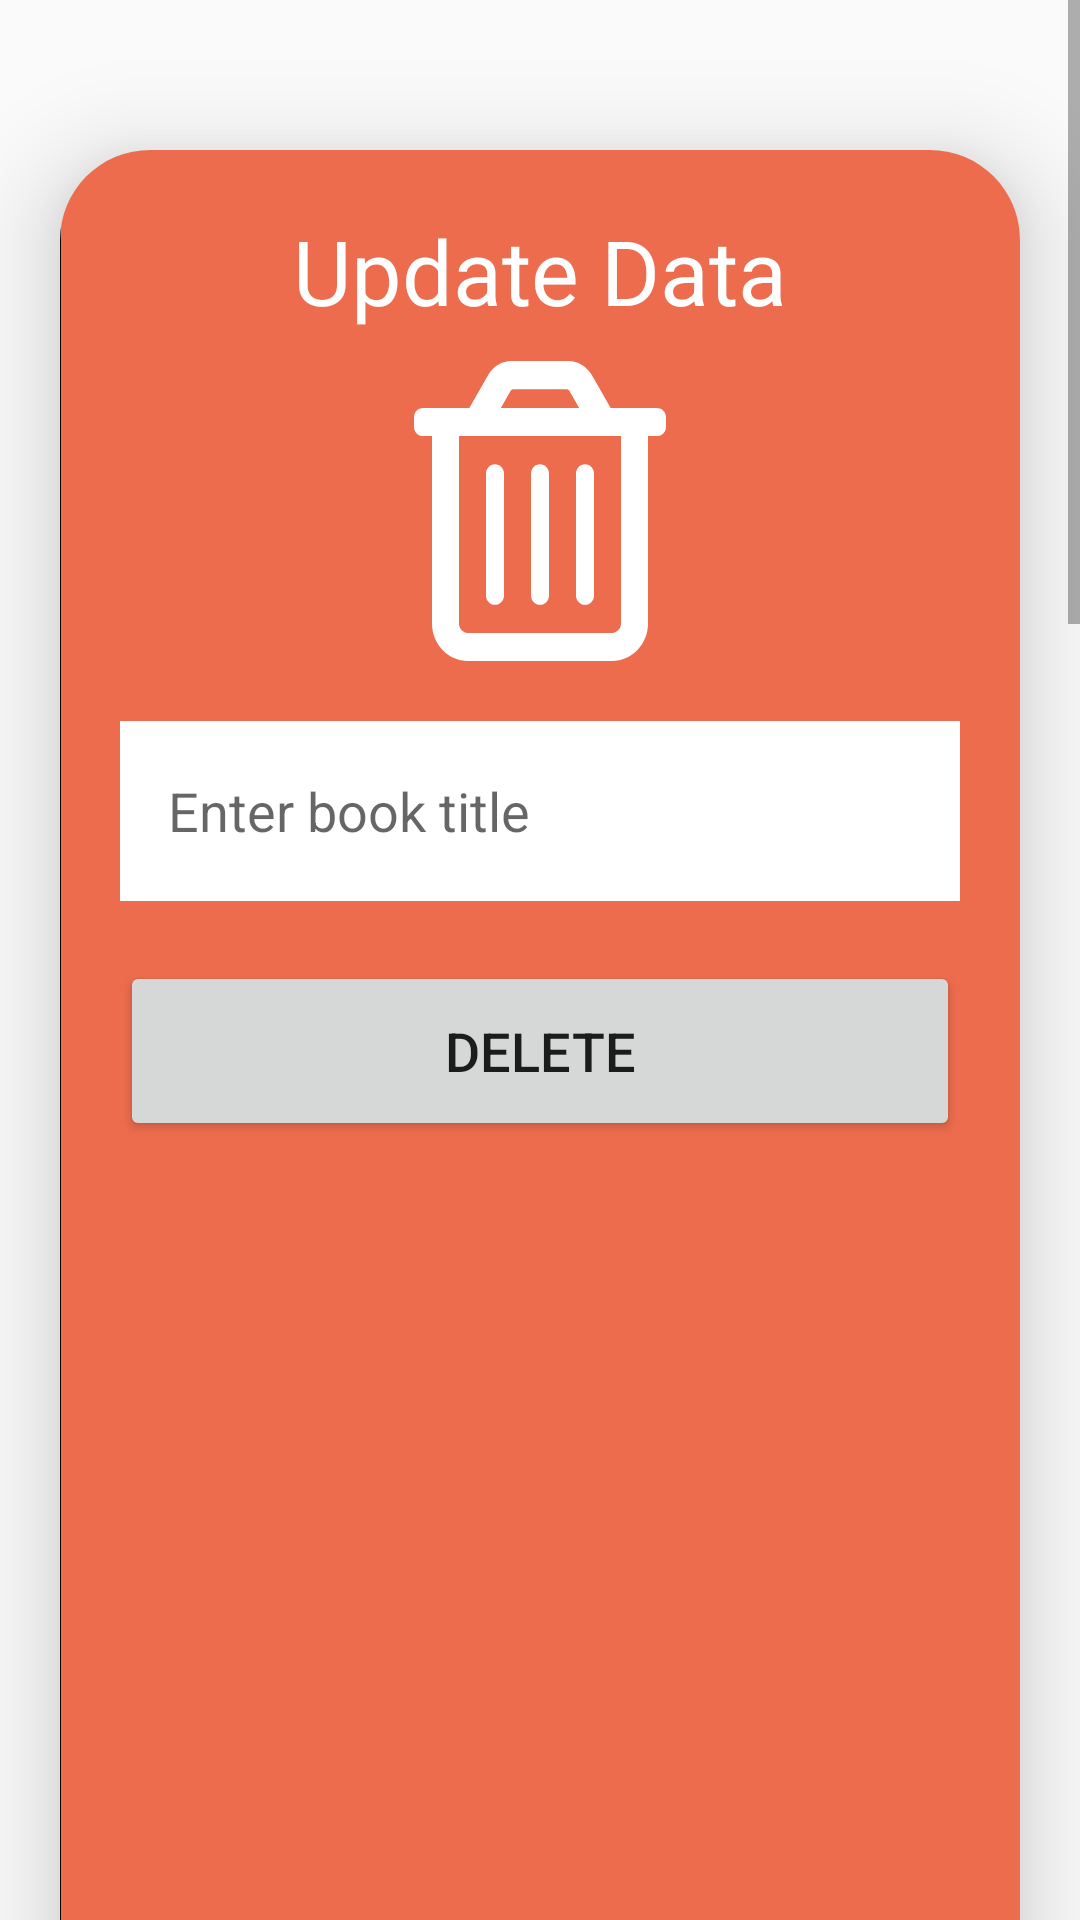

Icons on this 1080*1920 Android screen, each with its box as (x1, y1, x2, y2):
trash: (414, 361, 666, 661)
